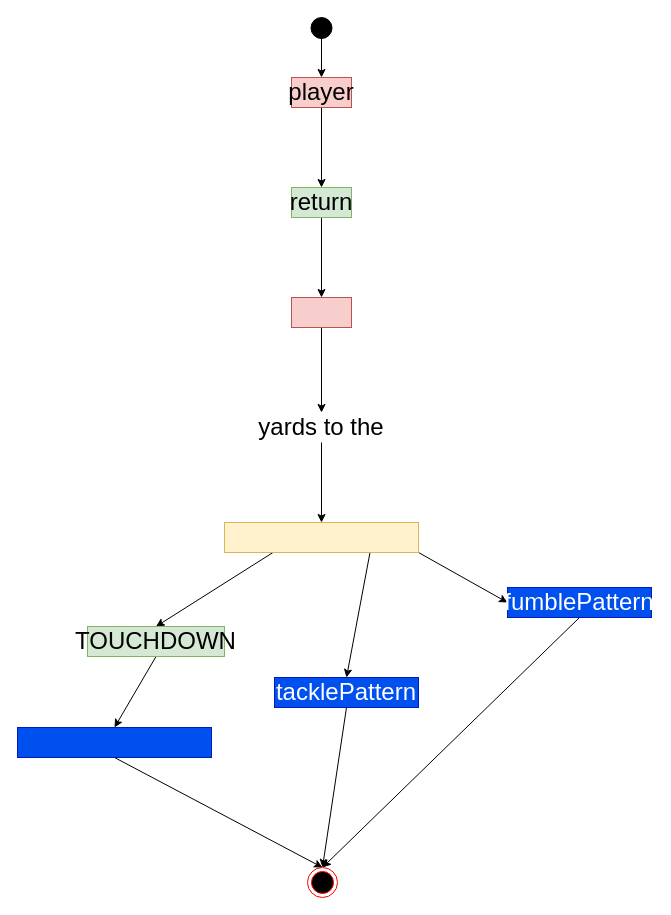
Some shapes in this 671 by 915 pixel diagram are drawn without their labels. The centre of each missing label's shape, as x and y in pixels:
extraPointPattern: (x=114, y=742)
ret_kick_yds: (x=321, y=312)
TeamNameYardLine: (x=321, y=537)
